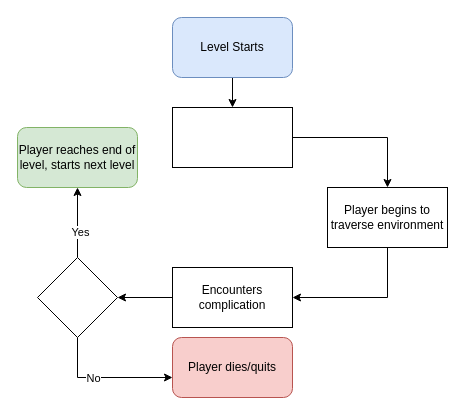
Some shapes in this 465 by 415 pixel diagram are drawn without their labels. The shapes that lost their labels are listed below. From the top down, each one's box as (x1, y1, x2, y2) in pixels, then its label:
(172, 106, 292, 168): Player assess nearby surroundings
(36, 256, 118, 338): Does player surpass complication?
